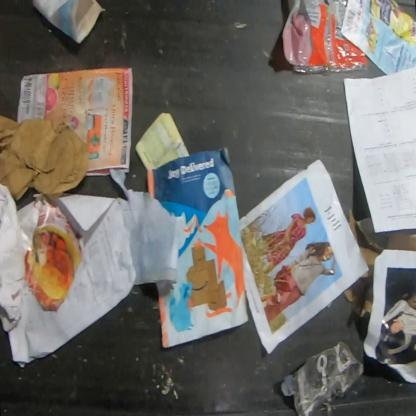soft_plastic: (281, 0, 369, 73)
